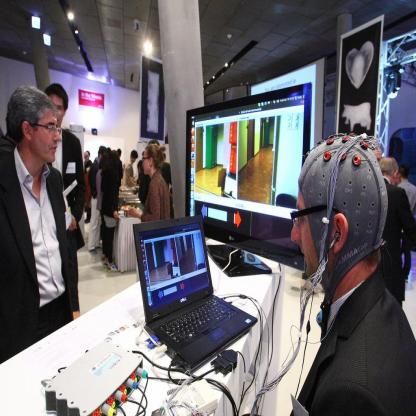board: (131, 212, 258, 373)
